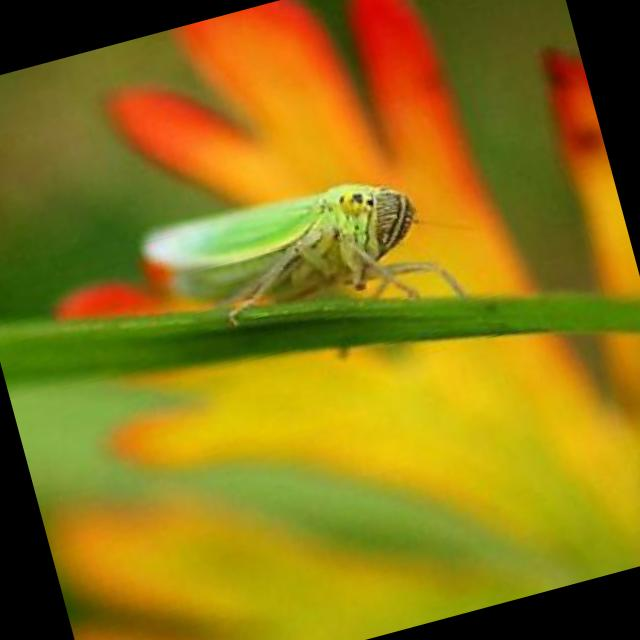green-leafhopper: (134, 149, 448, 364)
